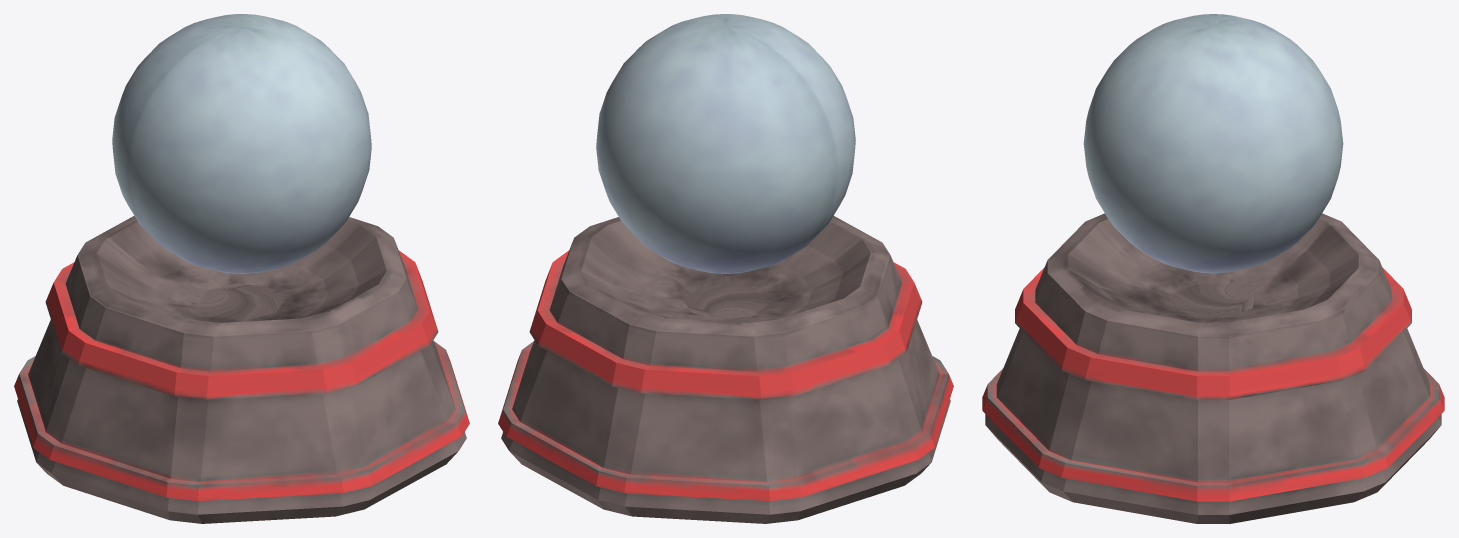
File: Switch.fbx
3 renders of one model, left to right at view 1: azimuth 30°, elevation 25°; view 2: azimuth 150°, elevation 25°; view 3: azimuth 270°, elevation 25°, orthographic.
Parts seen in each view (by area): view 1: Switch, SwitchBall; view 2: Switch, SwitchBall; view 3: Switch, SwitchBall.
Part boxes in pixels (x1,y1,x2,y2): Switch: (14, 216, 469, 523); SwitchBall: (112, 14, 371, 273); Switch: (498, 216, 953, 523); SwitchBall: (596, 14, 855, 273); Switch: (982, 213, 1444, 523); SwitchBall: (1083, 14, 1343, 273).
Bounding box in the file's own units: 278 × 270 × 278.
